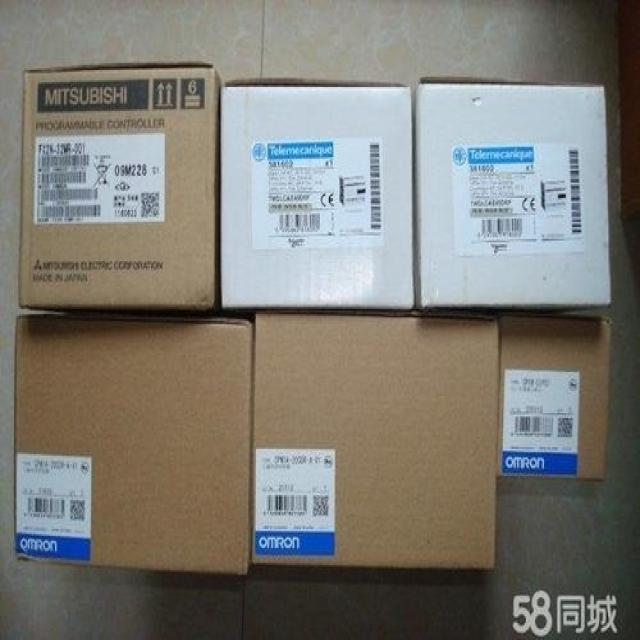box: (250, 312, 500, 570), (15, 316, 252, 577), (19, 61, 221, 319), (413, 77, 611, 314), (220, 79, 416, 314), (497, 314, 612, 483)
